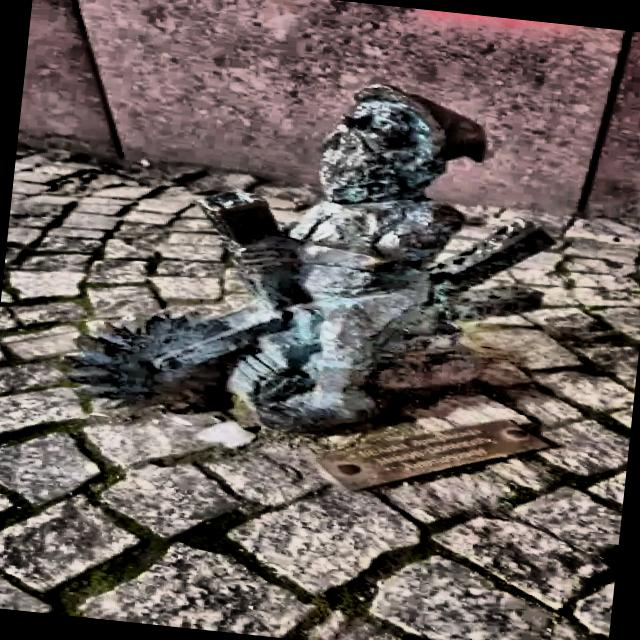Automatek: (66, 85, 551, 433)
